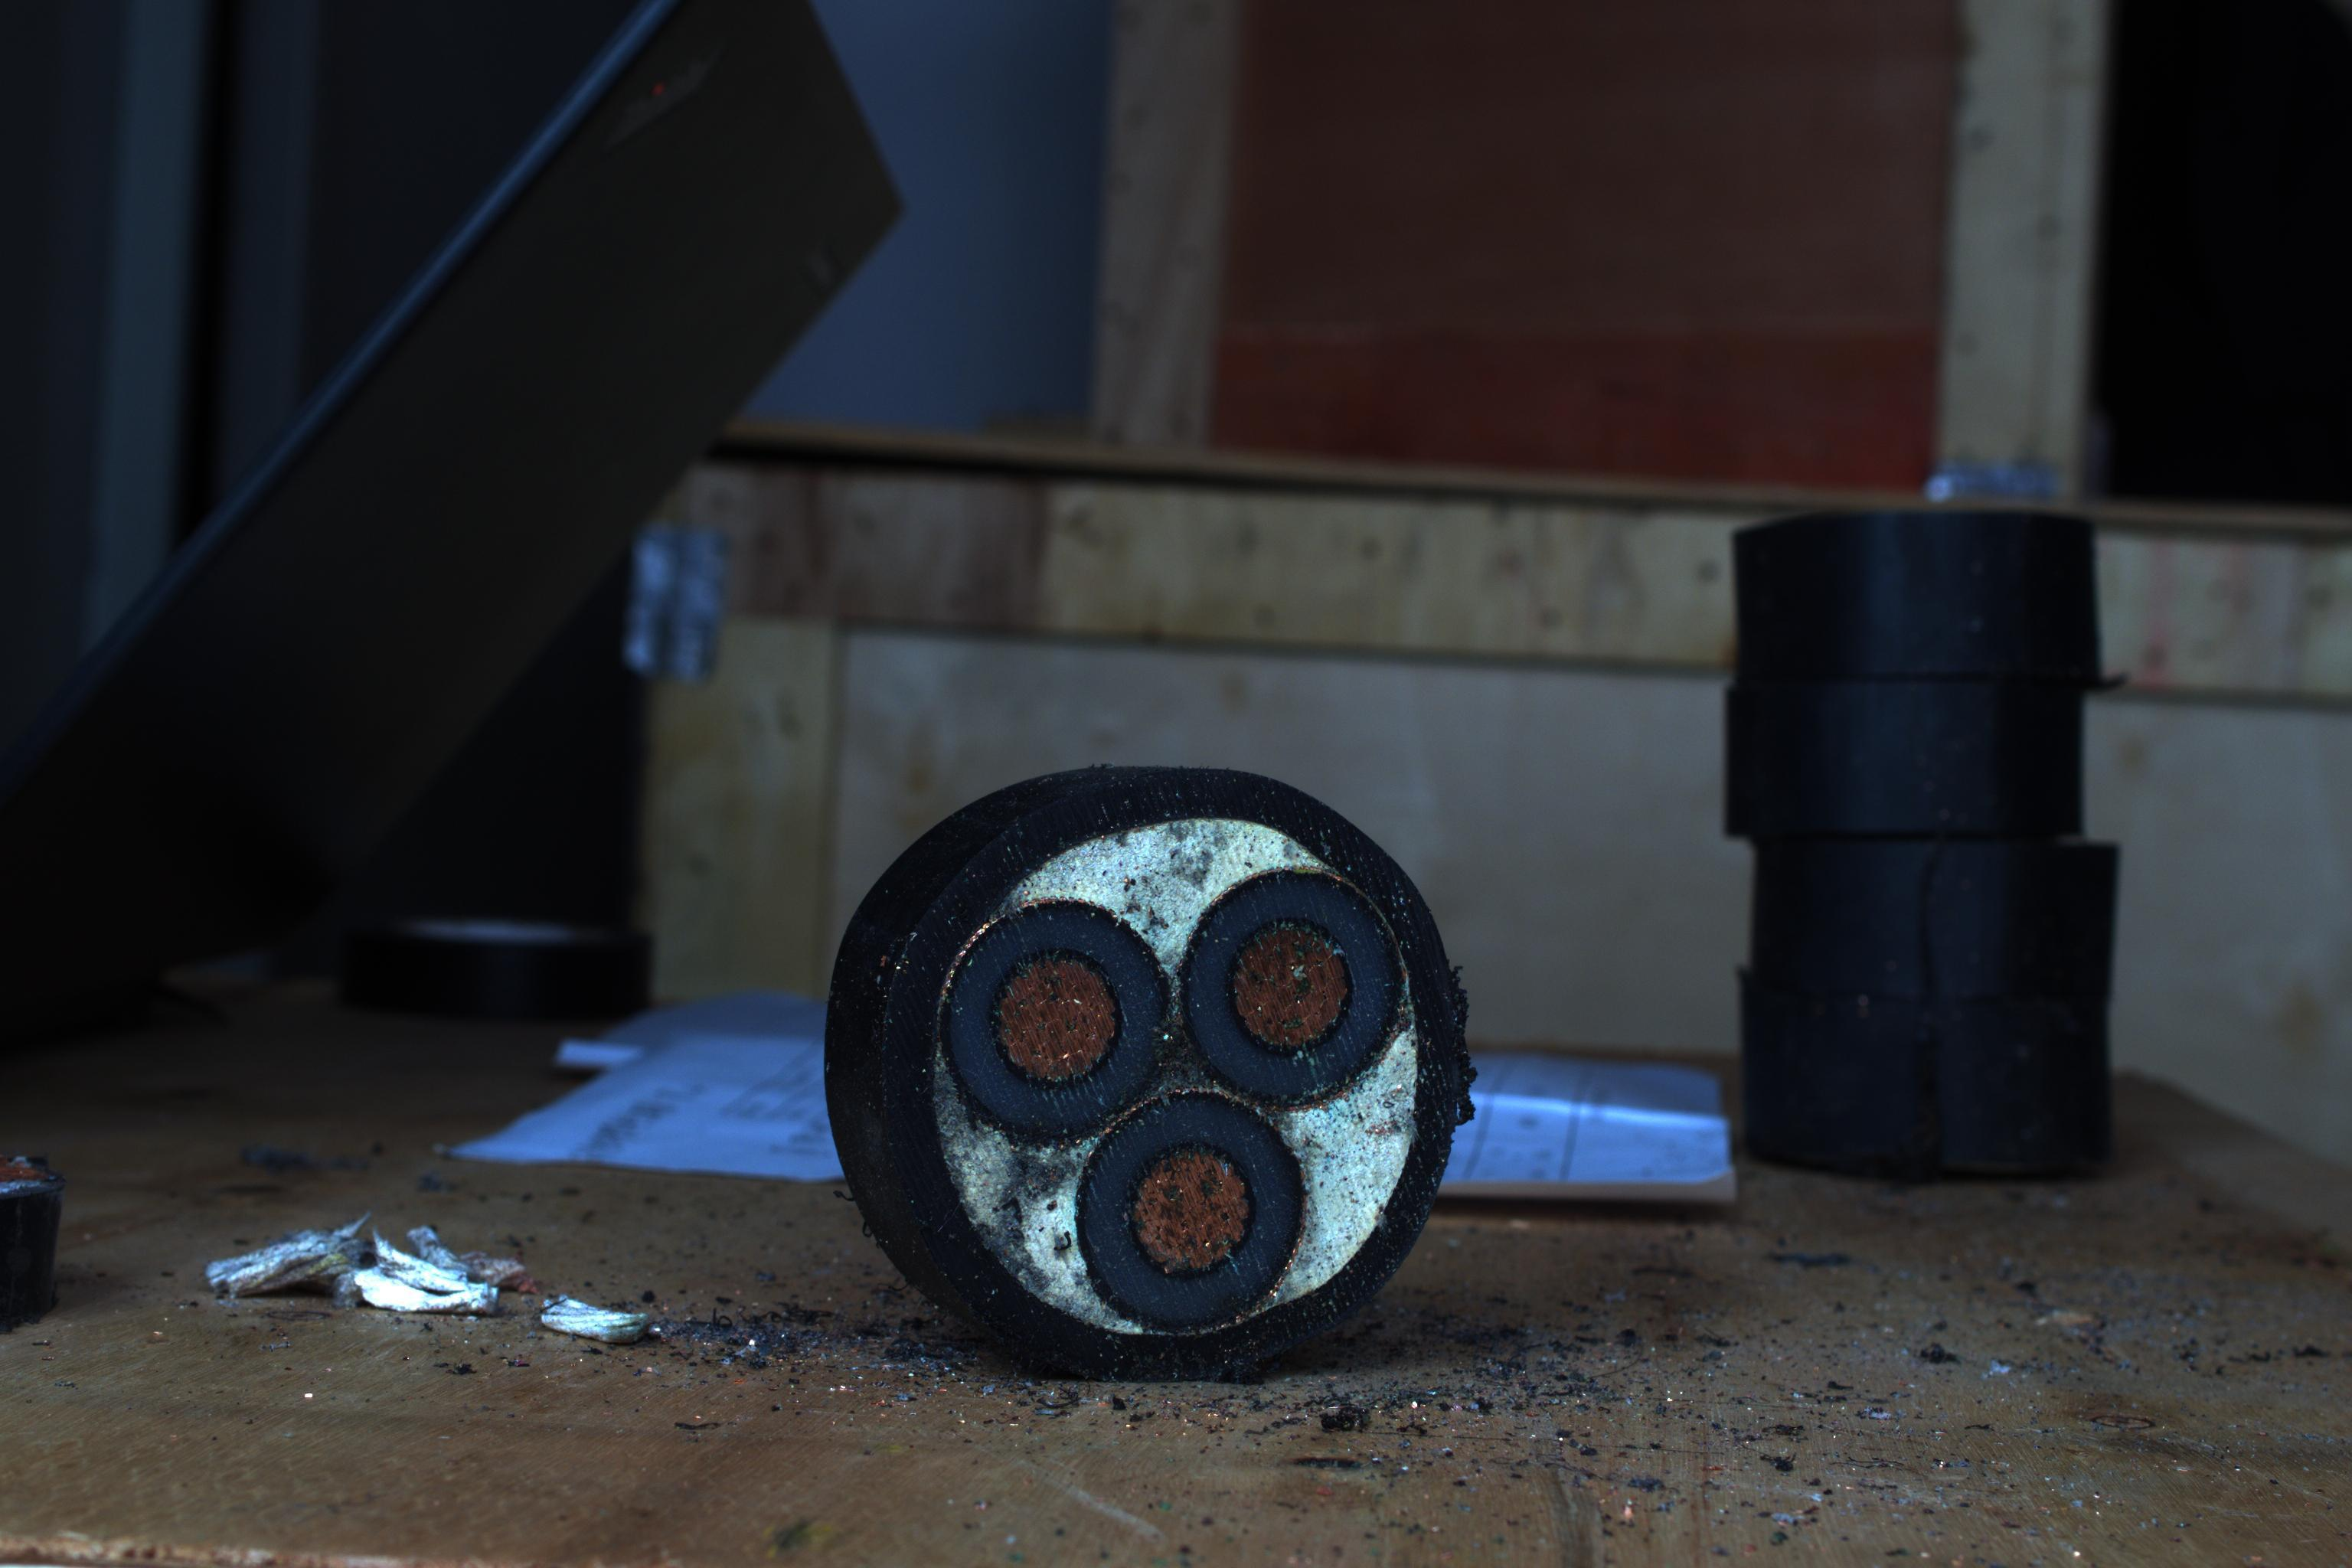ZA_YJV_8.7_10kV_3x120: (826, 779, 1487, 1384)
